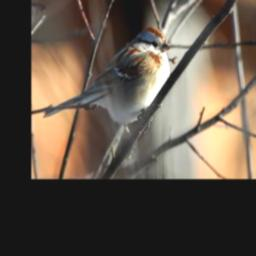Sparrow: (40, 25, 172, 133)
